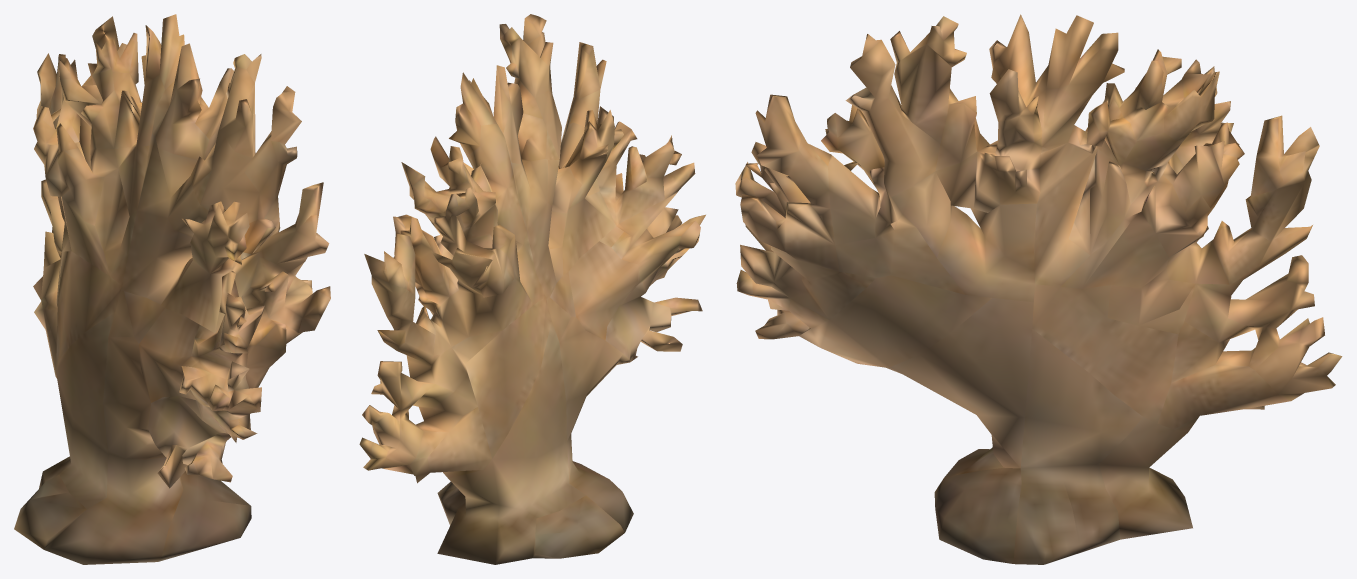
The model's file is staghorn.glb.
3 renders of one model, left to right at view 1: azimuth 30°, elevation 25°; view 2: azimuth 150°, elevation 25°; view 3: azimuth 270°, elevation 25°, orthographic. The views are drawn at different scales.
Parts seen in each view (by area): view 1: tripo_node_cd464d27-c61f-463d-a351-91313ae74cdc; view 2: tripo_node_cd464d27-c61f-463d-a351-91313ae74cdc; view 3: tripo_node_cd464d27-c61f-463d-a351-91313ae74cdc.
Boxes of the visible parts, box(x1,y1,x2,y2) form: tripo_node_cd464d27-c61f-463d-a351-91313ae74cdc: box(14, 14, 330, 564); tripo_node_cd464d27-c61f-463d-a351-91313ae74cdc: box(359, 14, 705, 564); tripo_node_cd464d27-c61f-463d-a351-91313ae74cdc: box(735, 14, 1342, 564).
Size of the model in its own units: 0.3851 by 0.9036 by 0.9337.
Materials: 1 (1 with a texture image).
